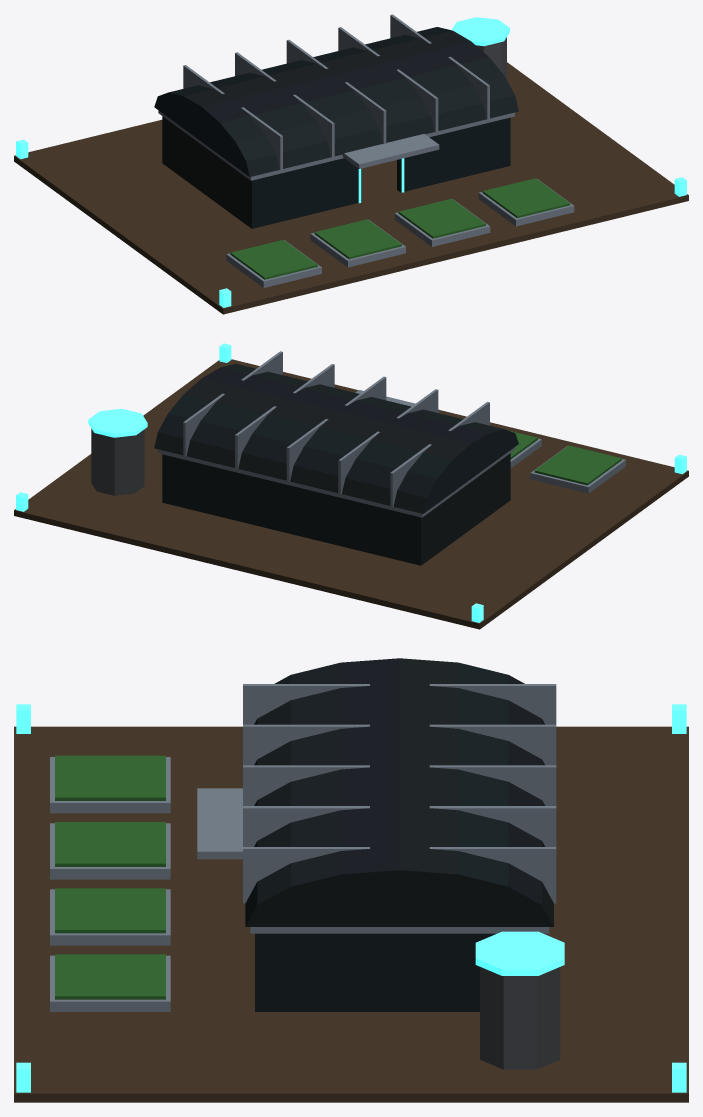
The model's file is shaddai_dist_suburb_farm_v01.glb.
3 renders of one model, top to bottom at view 1: azimuth 30°, elevation 25°; view 2: azimuth 150°, elevation 25°; view 3: azimuth 270°, elevation 25°, orthographic. The views are drawn at different scales.
Visible parts, largest first — view 1: shaddai_dist_suburb_farm; view 2: shaddai_dist_suburb_farm; view 3: shaddai_dist_suburb_farm.
Part boxes in pixels (<box>): shaddai_dist_suburb_farm: <box>14,14,688,314</box>; shaddai_dist_suburb_farm: <box>14,343,688,629</box>; shaddai_dist_suburb_farm: <box>14,658,688,1102</box>.
Size of the model in its own units: 36 by 7.1 by 28.
